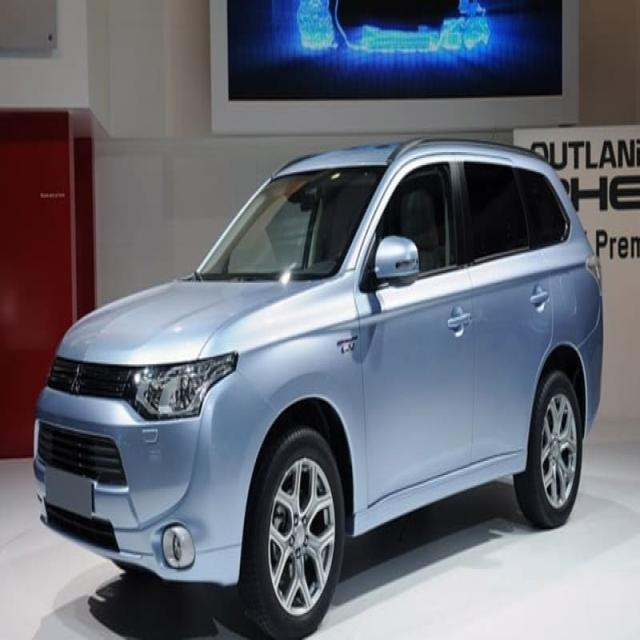light_vehicle: (33, 135, 605, 632)
